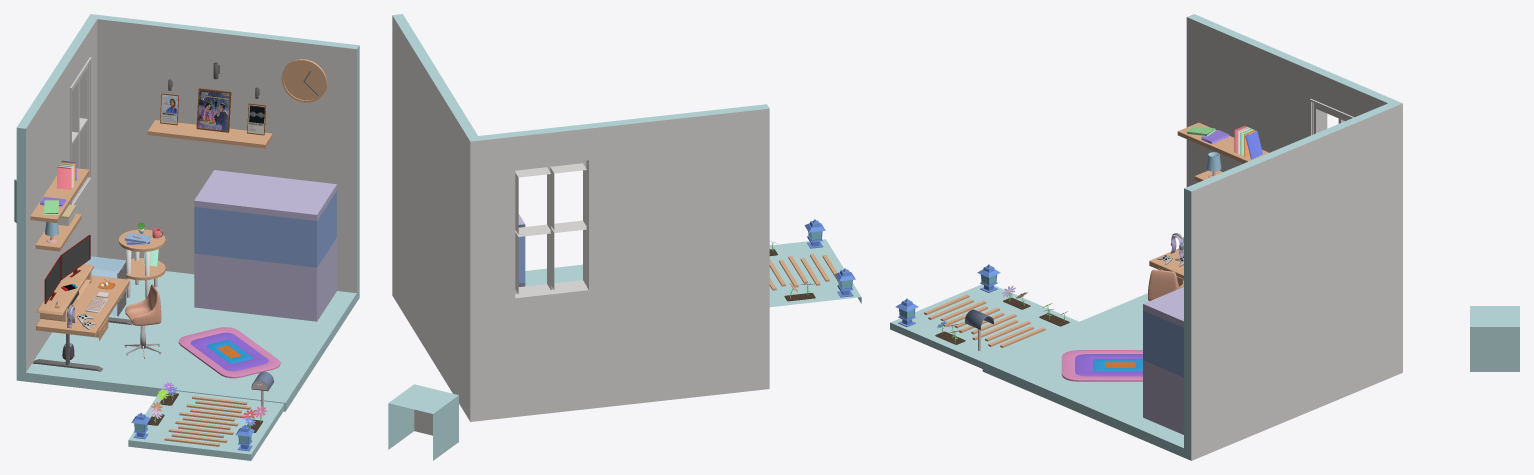
File: MYCV FINAL BIG.glb
The picture shows the model from 3 angles, left to right: view 1: azimuth 30°, elevation 25°; view 2: azimuth 150°, elevation 25°; view 3: azimuth 270°, elevation 25°; orthographic projection. The views are drawn at different scales.
Visible parts, largest first — view 1: Body, Aquaruiem, Shelfs, Mini floor, Floor items, Desks, Table stuff, Clock, Chair, Computer2, Lamps, Computer (+1 smaller); view 2: Body, Cube, Mini floor, Lamps, Aquaruiem; view 3: Body, Mini floor, Aquaruiem, Cube, Floor items, Shelfs, Lamps, Chair.
Part boxes in pixels (<box>): Body: <box>16,14,359,411</box>; Aquaruiem: <box>194,170,336,321</box>; Shelfs: <box>30,62,272,251</box>; Mini floor: <box>128,389,284,460</box>; Floor items: <box>62,256,280,378</box>; Desks: <box>32,229,165,371</box>; Table stuff: <box>37,222,163,329</box>; Clock: <box>281,59,327,102</box>; Chair: <box>125,284,161,325</box>; Computer2: <box>60,234,90,279</box>; Lamps: <box>131,412,254,451</box>; Computer: <box>44,256,60,303</box>; Body: <box>392,14,769,421</box>; Cube: <box>388,384,458,460</box>; Mini floor: <box>769,239,861,307</box>; Lamps: <box>804,219,855,297</box>; Aquaruiem: <box>518,214,525,286</box>; Body: <box>982,14,1402,460</box>; Mini floor: <box>890,284,1078,368</box>; Aquaruiem: <box>1143,287,1183,434</box>; Cube: <box>1470,306,1519,371</box>; Floor items: <box>1061,350,1142,381</box>; Shelfs: <box>1177,122,1269,181</box>; Lamps: <box>895,264,1000,326</box>; Chair: <box>1148,269,1183,300</box>.
Bounding box in the file's own units: 33.94 × 24 × 50.85.
100 materials, 3 textured.
